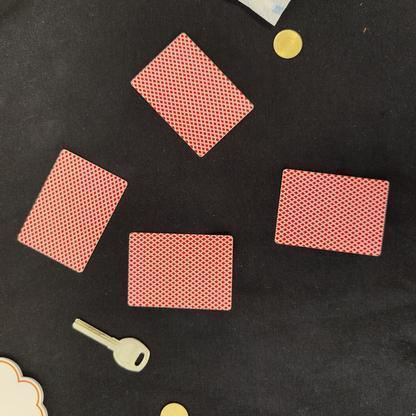card: (120, 29, 261, 162), (13, 142, 129, 283), (262, 161, 400, 267), (114, 226, 246, 319)
